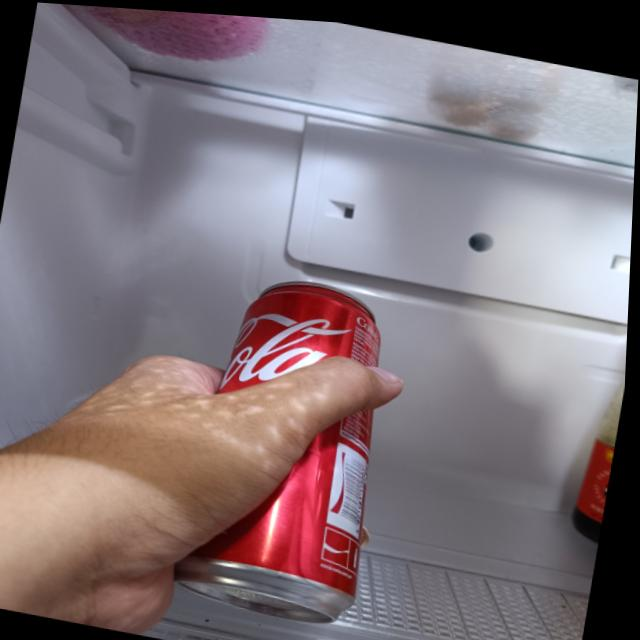coke: (184, 266, 395, 619)
